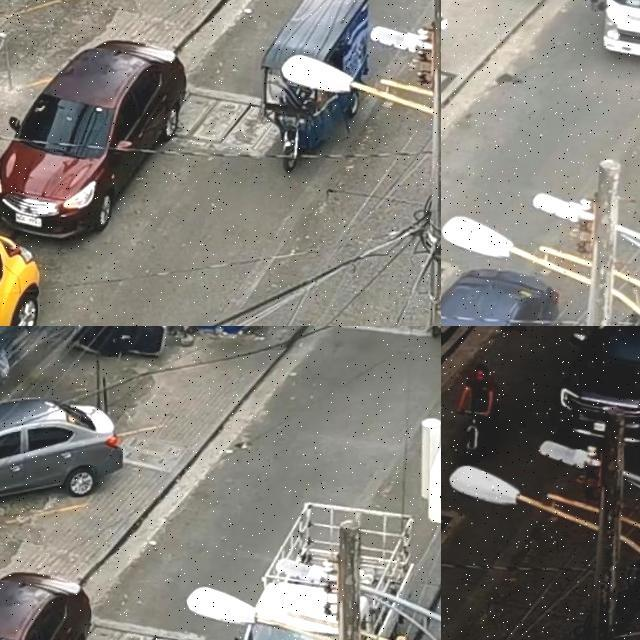Others: (224, 0, 404, 214)
